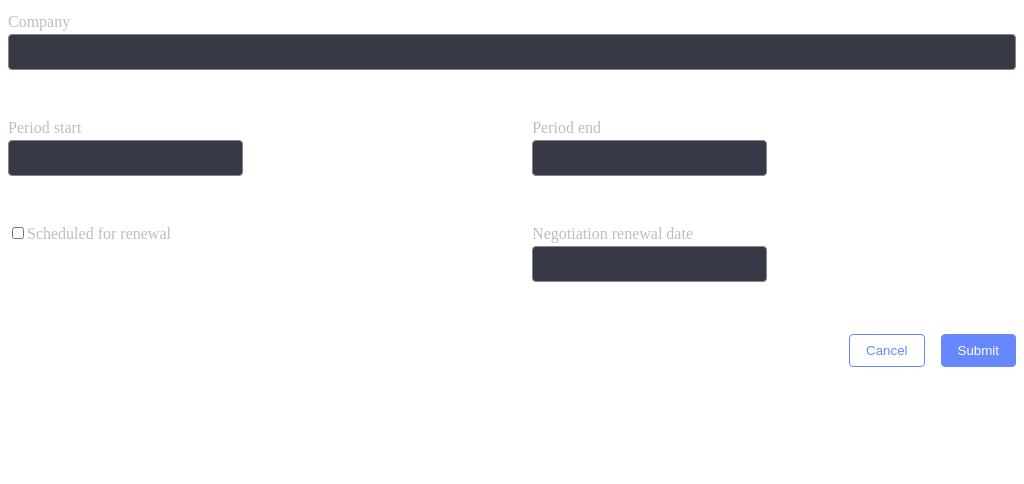
Test: ContractForm test suite › Fails to submit when start date is after end date
# Fill a mandatory field
Type "Acme" into the field labelled "Company" at (512, 52), box x1=8 y1=34 x2=1016 y2=70
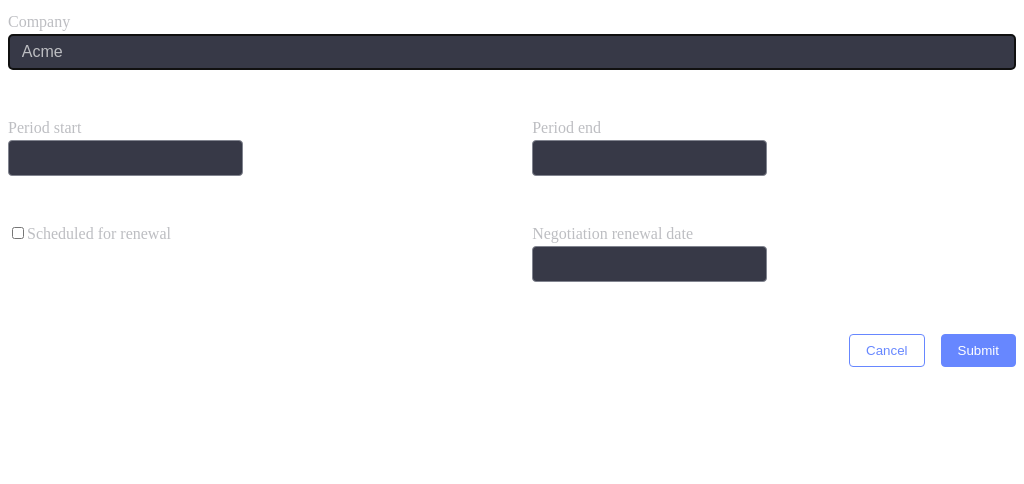
# Set period start date
Click the field labelled "Period start" at (125, 158), box x1=8 y1=140 x2=243 y2=176
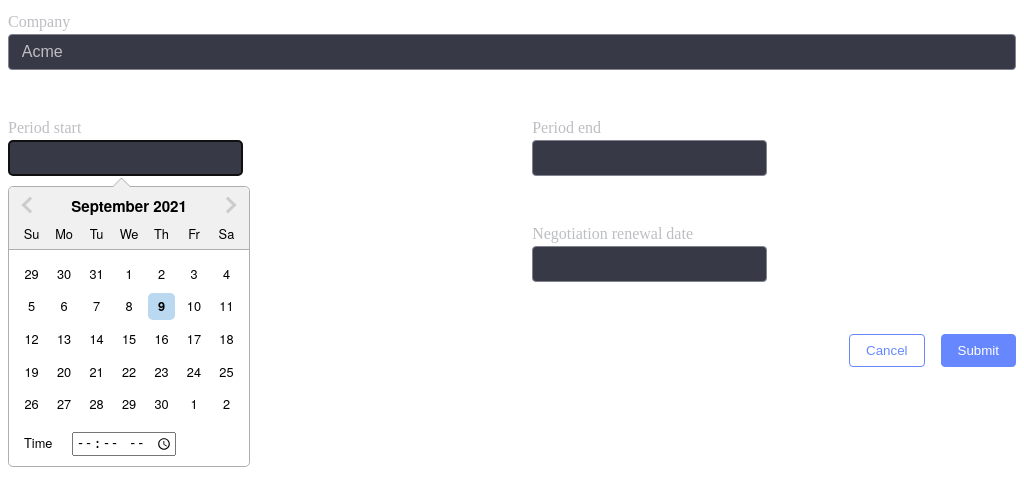
Click the option "10" at (194, 306), box x1=187 y1=296 x2=201 y2=315
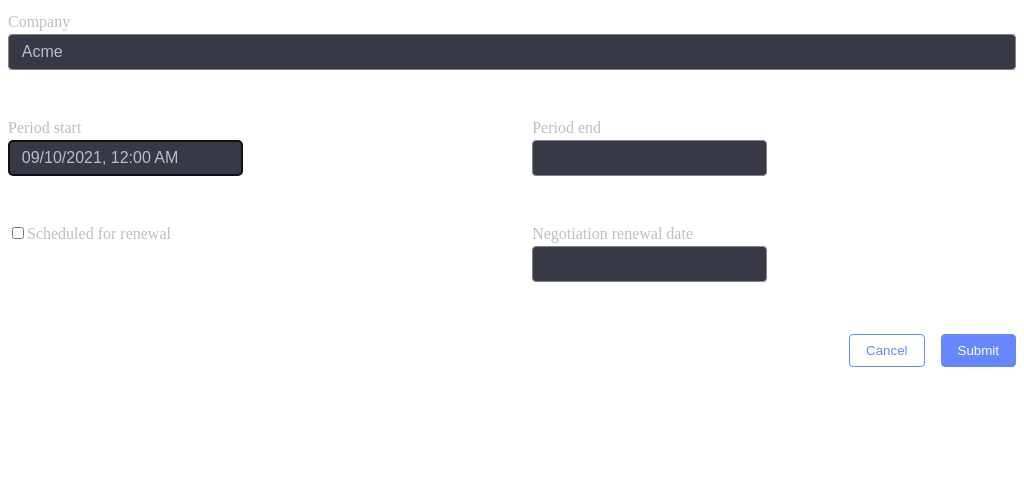
# Set period end date
Click the field labelled "Period end" at (650, 158), box x1=532 y1=140 x2=767 y2=176
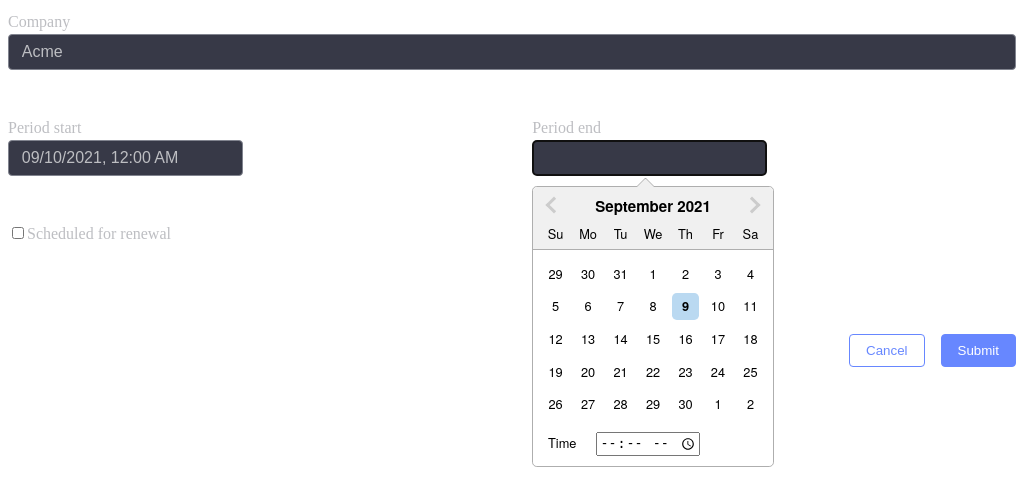
Click the option "9" at (686, 307), box x1=672 y1=293 x2=699 y2=320
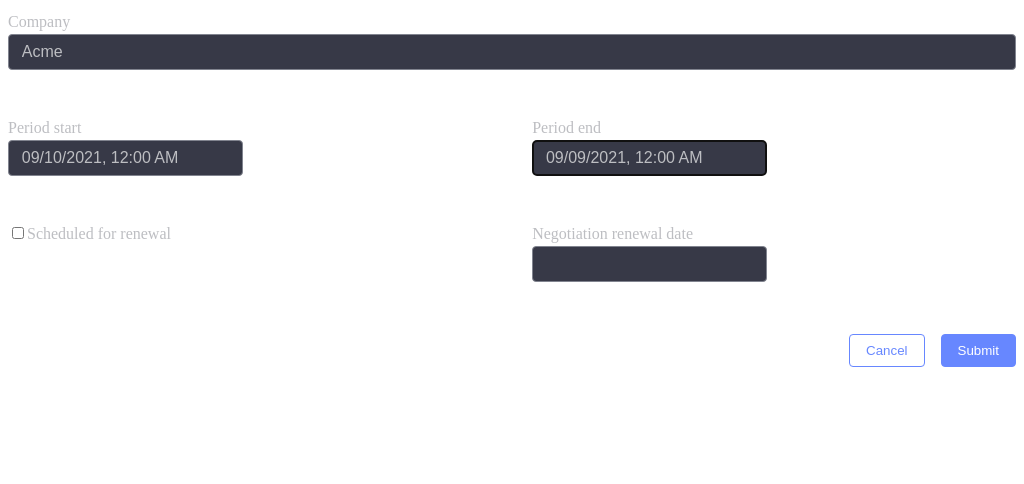
# Submit the form
Click the button "Submit" at (978, 350), box x1=940 y1=334 x2=1016 y2=367
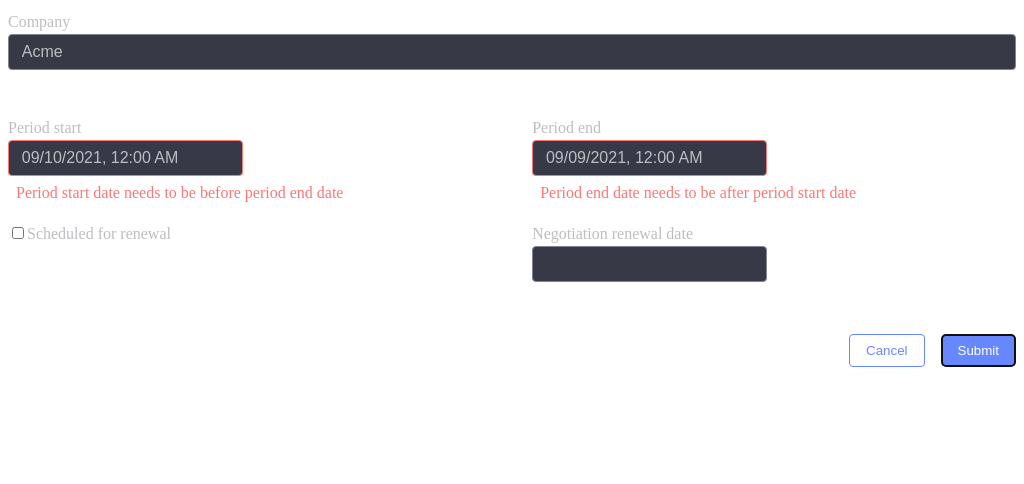
Expected: the text "Period start date needs to be before period end date" is shown, x1=16 y1=184 x2=343 y2=201
Expected: the text "Period end date needs to be after period start date" is shown, x1=540 y1=184 x2=856 y2=201
